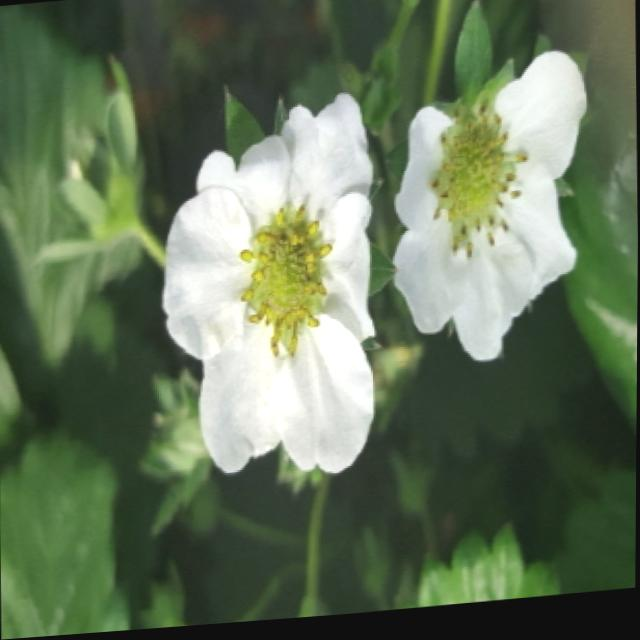Blossom Blight: (423, 103, 533, 270)
